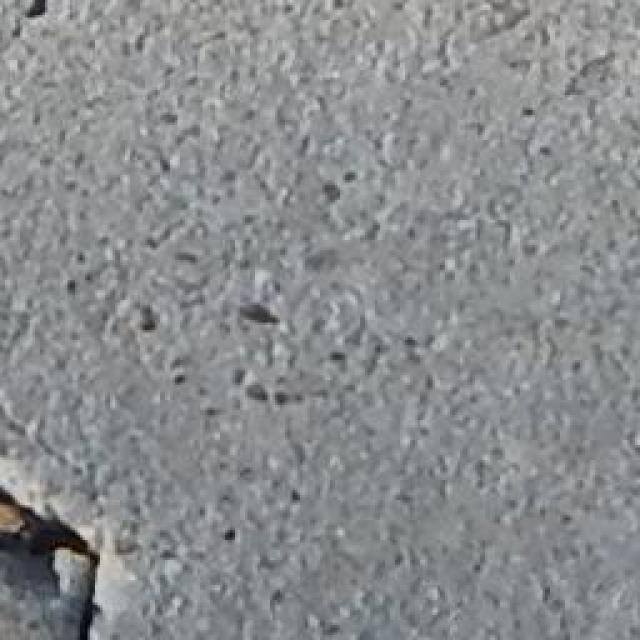concrete-crack: (0, 478, 111, 640)
